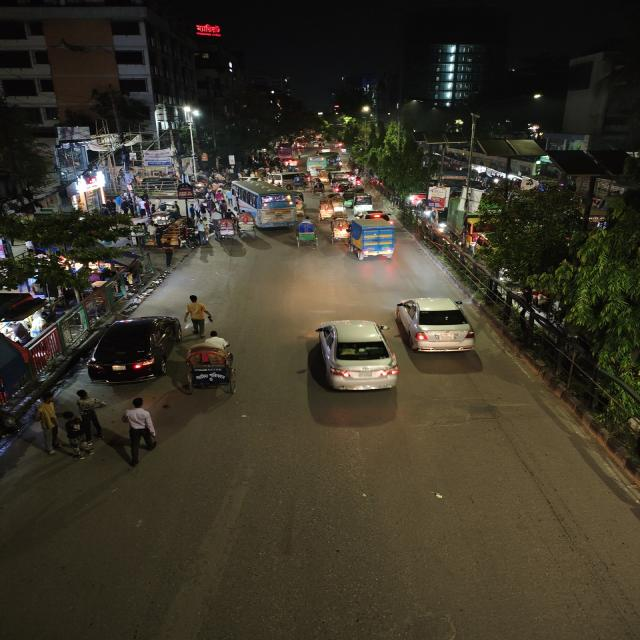bus: (230, 179, 305, 228), (304, 155, 328, 173)
car: (83, 311, 183, 387), (310, 317, 400, 395), (392, 294, 478, 357)
cng: (352, 192, 376, 212), (342, 190, 360, 206)
pedestrian: (118, 397, 160, 460), (71, 389, 106, 454), (31, 394, 64, 453), (60, 410, 90, 450), (184, 294, 211, 334)
rickshaw: (180, 331, 247, 397), (292, 218, 320, 249), (328, 214, 352, 245), (211, 217, 240, 241), (237, 210, 254, 236), (317, 198, 337, 220), (312, 181, 328, 198), (293, 178, 306, 189)
truck: (353, 219, 402, 259)
